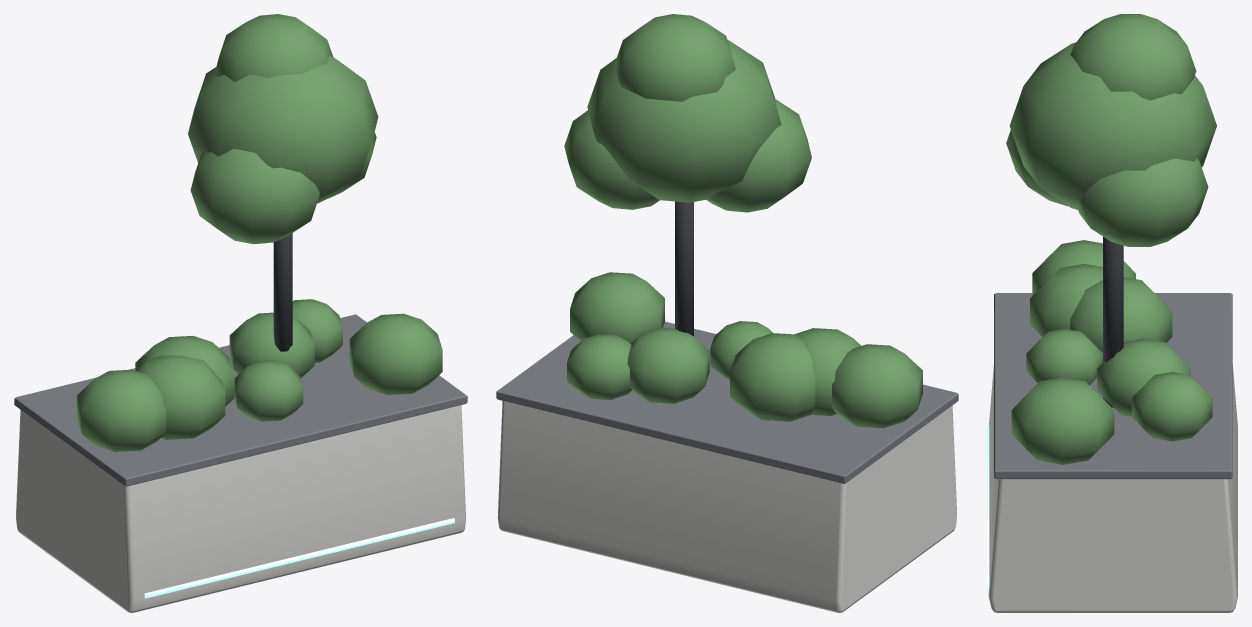
Rendered from kit_planter.glb.
3 views of the same model, side by side, from view 1: azimuth 30°, elevation 25°; view 2: azimuth 150°, elevation 25°; view 3: azimuth 270°, elevation 25° (orthographic). The views are drawn at different scales.
Parts seen in each view (by area): view 1: planter; view 2: planter; view 3: planter.
Part boxes in pixels (x1,y1,x2,y2): planter: (14, 14, 467, 612); planter: (496, 14, 958, 612); planter: (987, 14, 1237, 612).
Size of the model in its own units: 2.46 by 3.37 by 1.45.
